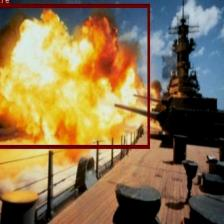fire: (0, 3, 149, 148)
